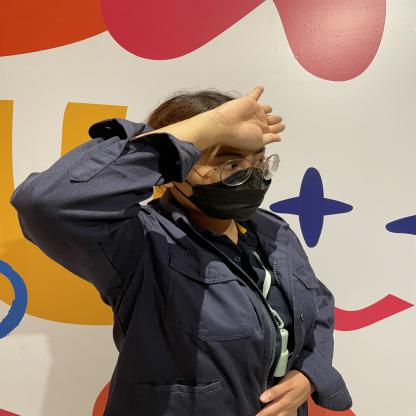Sick: (136, 82, 309, 164)
